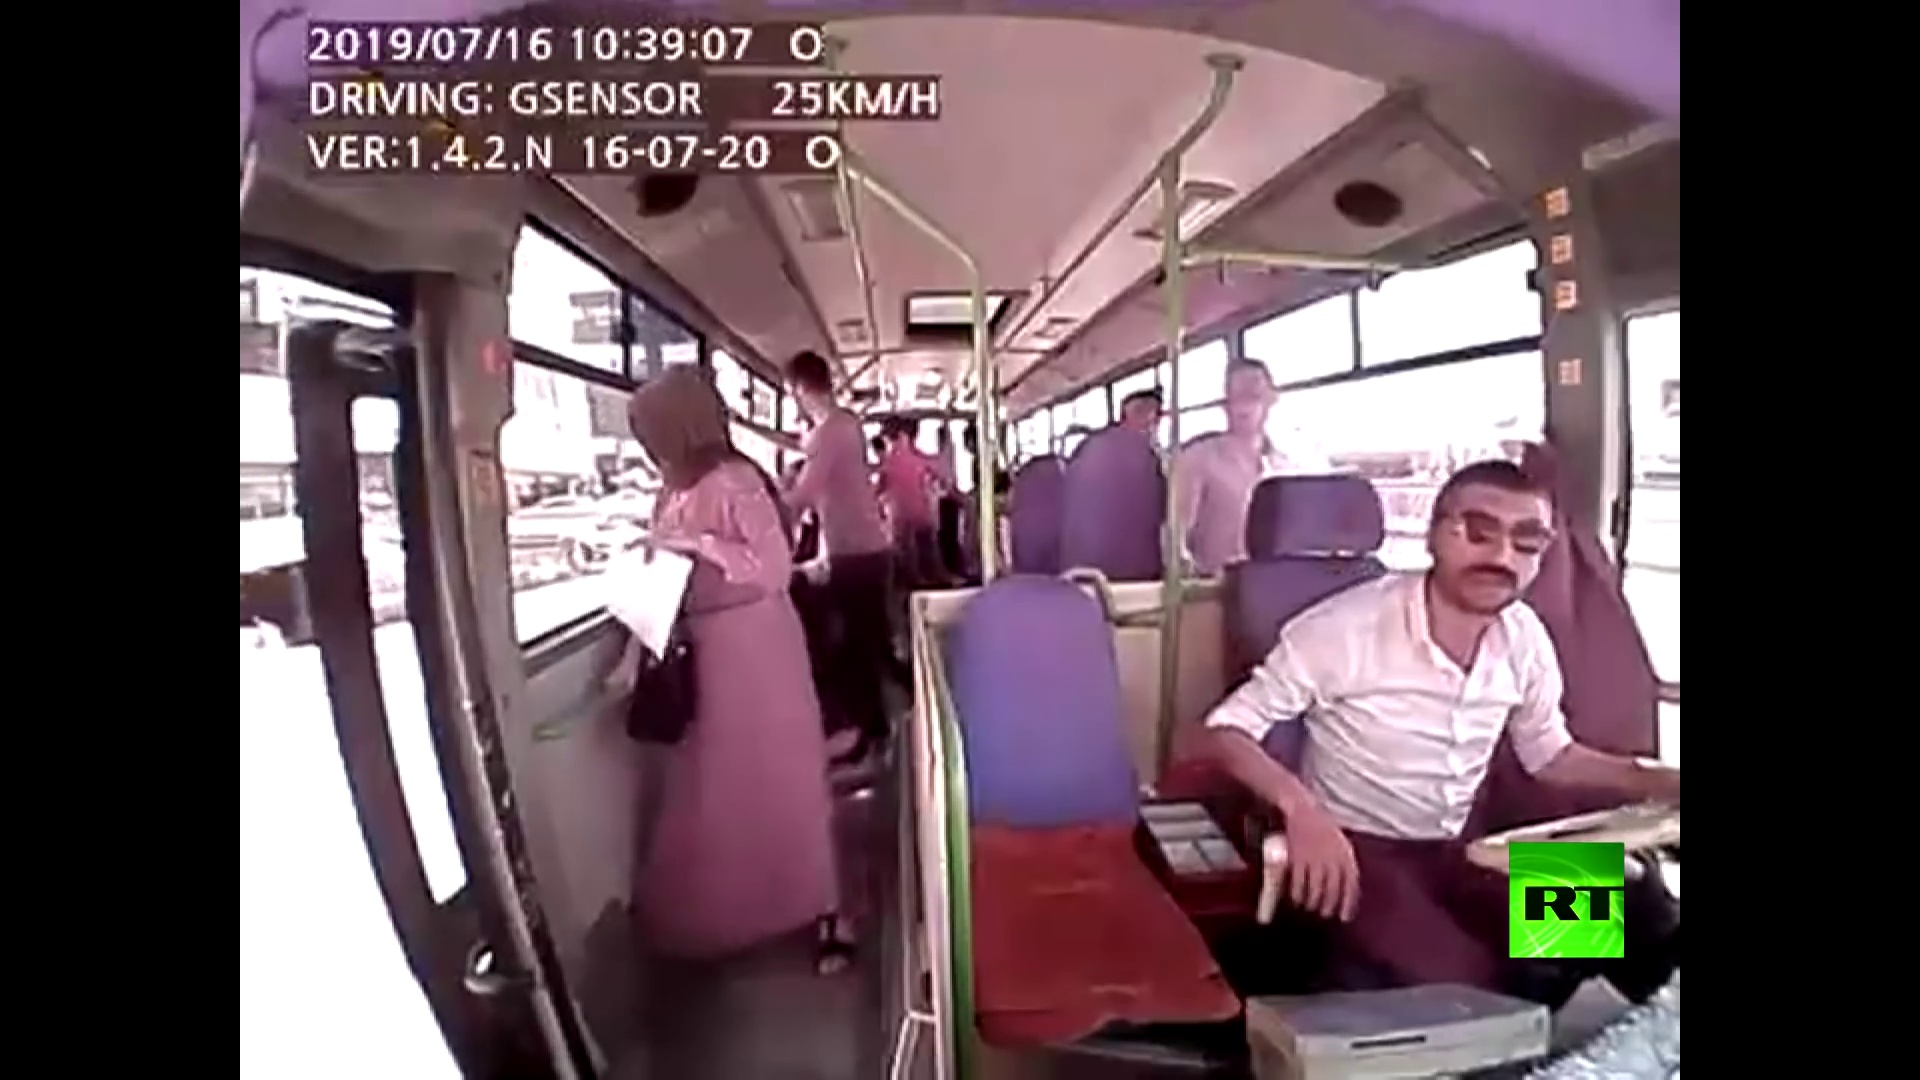face: (1445, 496, 1542, 603), (1219, 363, 1268, 435)
